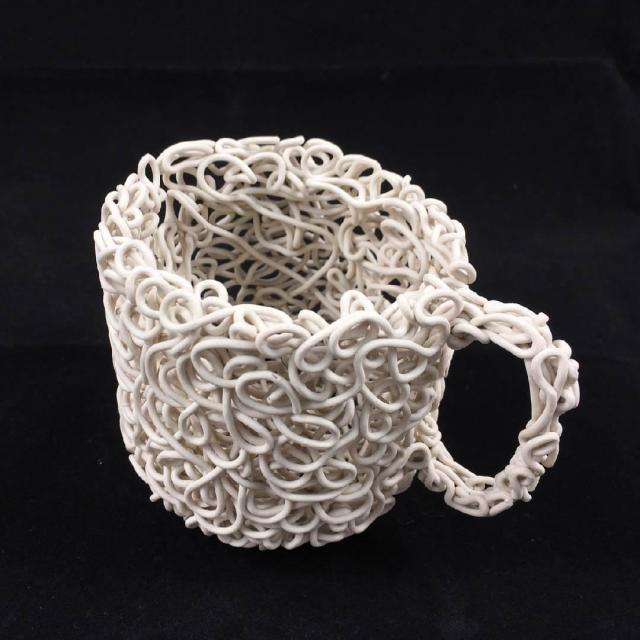Without deffect: (80, 123, 584, 548)
